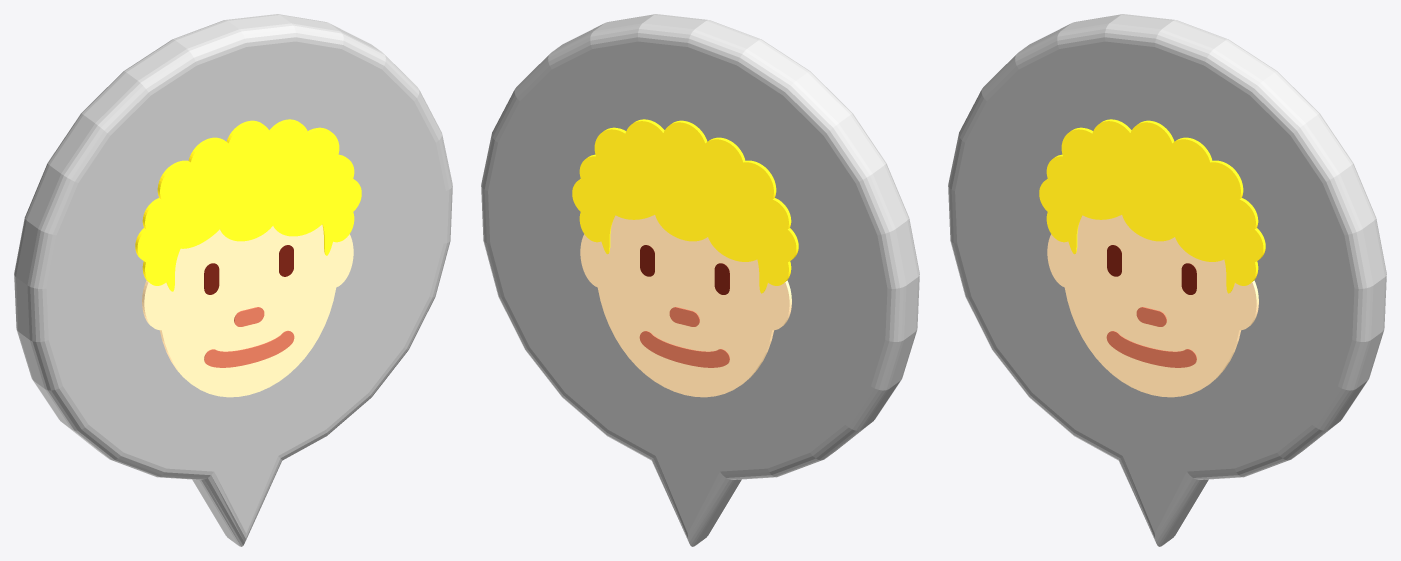
The model's file is mediumlight_skin_tone_curly_hair.glb.
The picture shows the model from 3 angles, left to right: view 1: azimuth 30°, elevation 25°; view 2: azimuth 150°, elevation 25°; view 3: azimuth 330°, elevation 25°; orthographic projection.
Visible parts, largest first — view 1: EmotionBubble; view 2: EmotionBubble; view 3: EmotionBubble.
Boxes of the visible parts, bbox=[...] form: EmotionBubble: bbox=[14, 14, 452, 546]; EmotionBubble: bbox=[481, 14, 919, 546]; EmotionBubble: bbox=[948, 14, 1386, 546].
Size of the model in its own units: 5.29 by 6.16 by 0.7.
